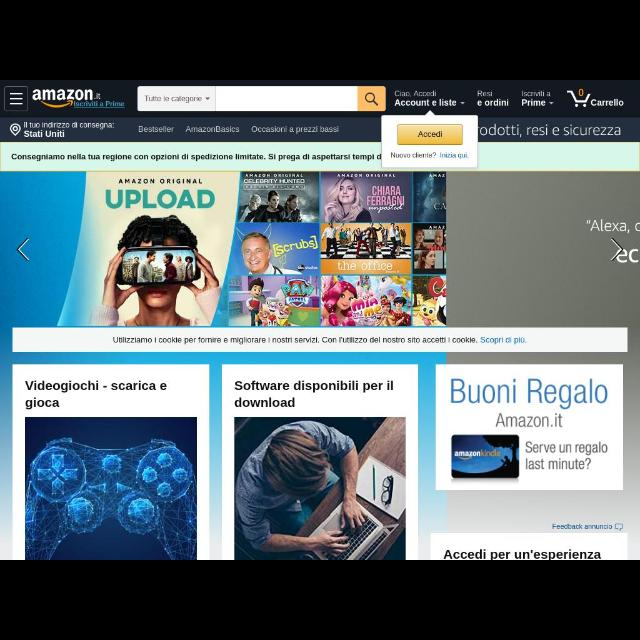button: (359, 88, 385, 110)
icon: (15, 234, 32, 262), (608, 236, 624, 262), (10, 92, 22, 106), (10, 123, 22, 137), (614, 523, 624, 531), (548, 100, 556, 106), (459, 100, 466, 106), (206, 96, 210, 102)
image: (1, 172, 639, 326), (25, 416, 196, 560), (234, 417, 406, 559), (436, 364, 624, 491), (32, 86, 128, 114), (567, 88, 593, 110)
input: (135, 85, 387, 113)
link: (479, 334, 528, 346), (439, 152, 468, 160)
multitab: (134, 117, 348, 143)
panel: (382, 114, 478, 168)
spinner: (137, 86, 215, 112), (391, 85, 467, 108), (516, 86, 560, 110)
text: (114, 332, 528, 350), (235, 378, 398, 410), (13, 152, 383, 166), (25, 378, 173, 408), (481, 122, 621, 138), (445, 548, 593, 560), (23, 122, 116, 140), (394, 88, 456, 108), (250, 124, 342, 136), (144, 93, 202, 105), (478, 88, 510, 109), (187, 124, 241, 134), (521, 89, 549, 108), (551, 522, 613, 530), (138, 124, 174, 136), (592, 98, 624, 110), (390, 152, 438, 160)
textbutton: (398, 124, 462, 146)
